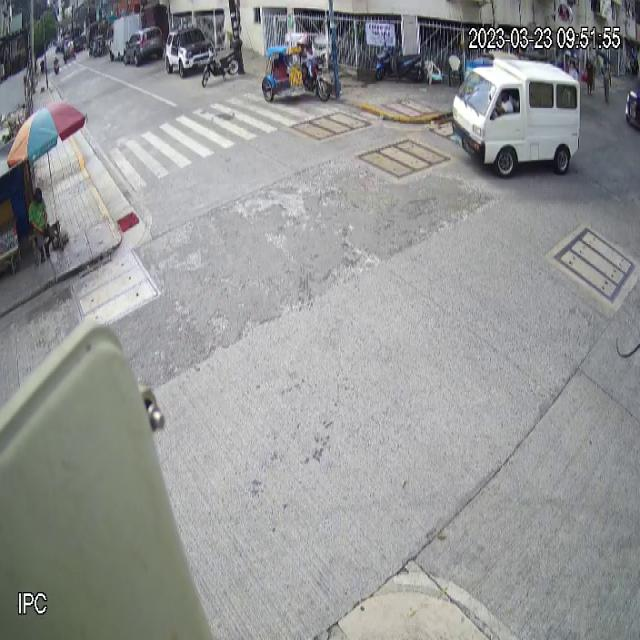Tricycle: (261, 29, 332, 102)
Van: (451, 56, 582, 176)
